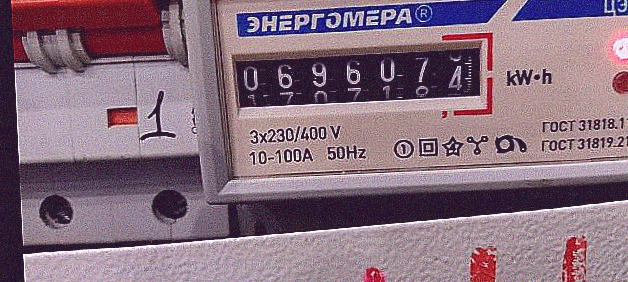0: (240, 62, 261, 92), (376, 54, 396, 82)
4: (445, 63, 464, 92)
6: (274, 61, 294, 89), (343, 56, 362, 85)
7: (411, 53, 431, 84)
9: (308, 60, 328, 88)
screen: (218, 28, 501, 128)
